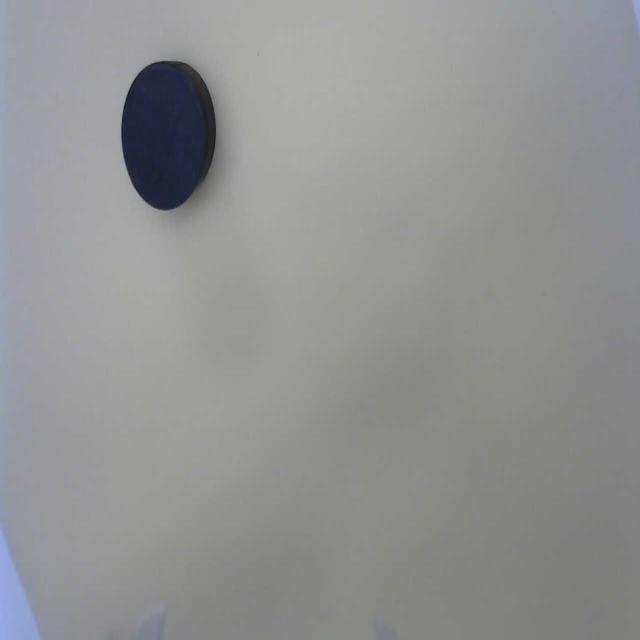circle: (121, 60, 207, 211)
